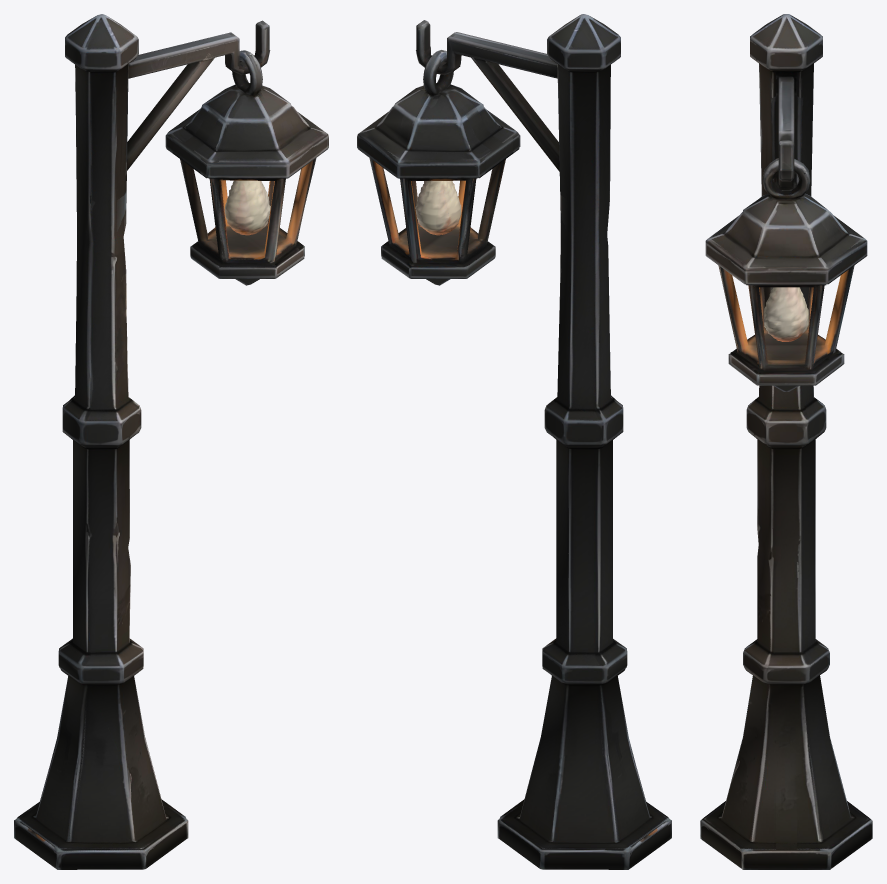
The model's file is selected.glb.
3 views of the same model, side by side, from view 1: azimuth 30°, elevation 25°; view 2: azimuth 150°, elevation 25°; view 3: azimuth 270°, elevation 25° (orthographic).
Visible parts, largest first — view 1: tripo_node_0596f78b-d9a6-4940-b25f-3833664a9845; view 2: tripo_node_0596f78b-d9a6-4940-b25f-3833664a9845; view 3: tripo_node_0596f78b-d9a6-4940-b25f-3833664a9845.
Part boxes in pixels (bbox=[...]): tripo_node_0596f78b-d9a6-4940-b25f-3833664a9845: bbox=[14, 14, 328, 869]; tripo_node_0596f78b-d9a6-4940-b25f-3833664a9845: bbox=[357, 14, 671, 869]; tripo_node_0596f78b-d9a6-4940-b25f-3833664a9845: bbox=[700, 14, 872, 869].
Bounding box in the file's own units: 0.3457 × 0.998 × 0.1895.
1 material, 1 textured.
